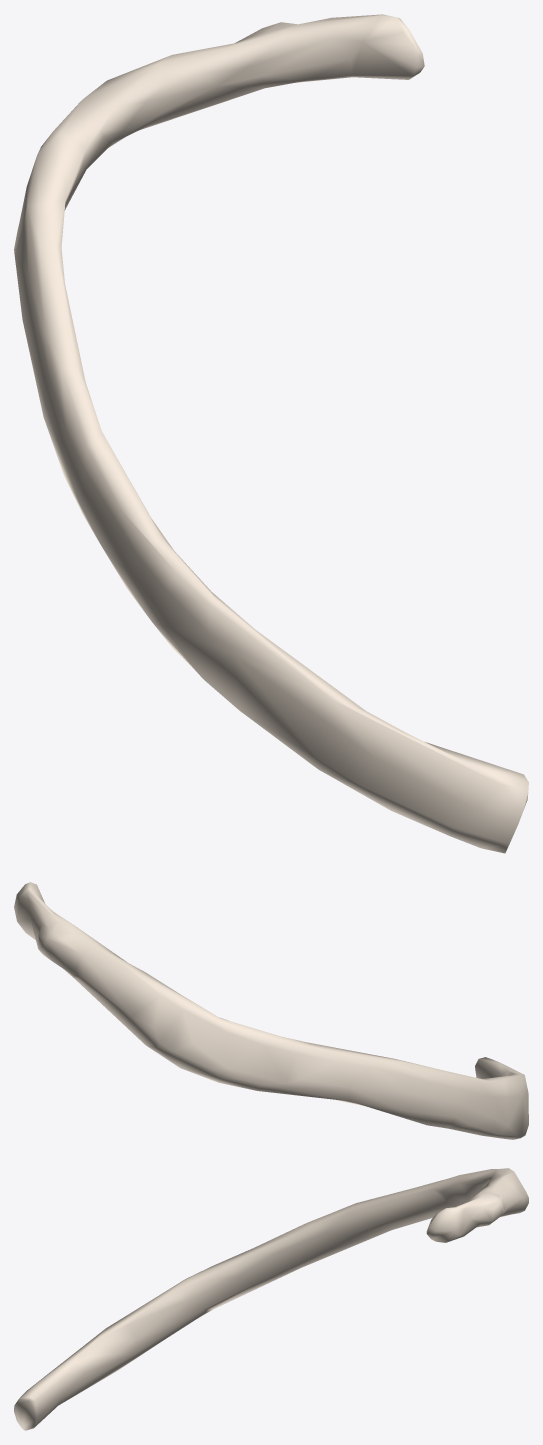
The model's file is right_rib_5.glb.
The picture shows the model from 3 angles, top to bottom: view 1: azimuth 30°, elevation 25°; view 2: azimuth 150°, elevation 25°; view 3: azimuth 270°, elevation 25°; orthographic projection. The views are drawn at different scales.
Visible parts, largest first — view 1: Rib (5th).r; view 2: Rib (5th).r; view 3: Rib (5th).r.
Boxes of the visible parts, left/top/right/bottom form: Rib (5th).r: left=14, top=14, right=528, bottom=853; Rib (5th).r: left=14, top=882, right=528, bottom=1139; Rib (5th).r: left=14, top=1168, right=528, bottom=1430.
Bounding box in the file's own units: 0.0869 × 0.0927 × 0.147.
